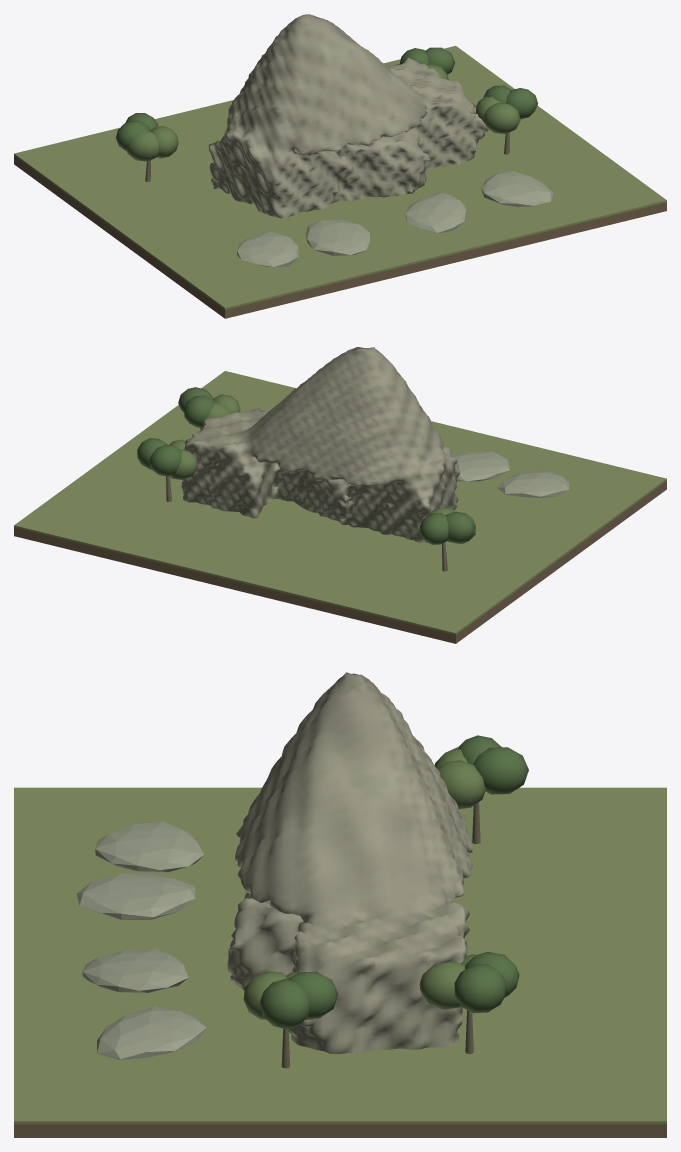
Rendered from gms-25.glb.
The picture shows the model from 3 angles, top to bottom: view 1: azimuth 30°, elevation 25°; view 2: azimuth 150°, elevation 25°; view 3: azimuth 270°, elevation 25°; orthographic projection. The views are drawn at different scales.
Visible parts, largest first — view 1: GMS-25 - estudio del paisaje; view 2: GMS-25 - estudio del paisaje; view 3: GMS-25 - estudio del paisaje.
Boxes of the visible parts, x1,y1,x2,y2 form: GMS-25 - estudio del paisaje: (14,14,666,318); GMS-25 - estudio del paisaje: (14,347,666,643); GMS-25 - estudio del paisaje: (14,672,666,1137).
Size of the model in its own units: 11.6 by 4.42 by 9.6.
